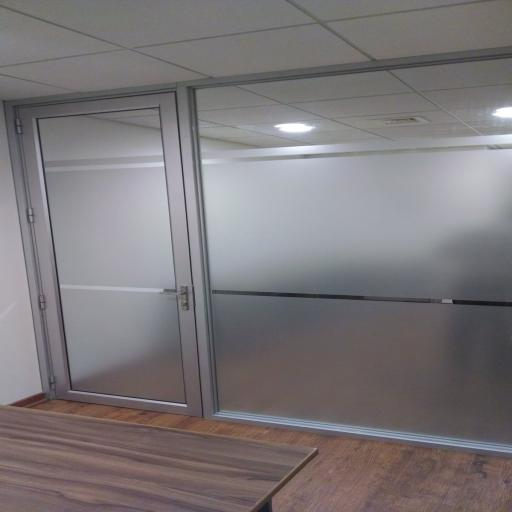child: (15, 89, 206, 423)
